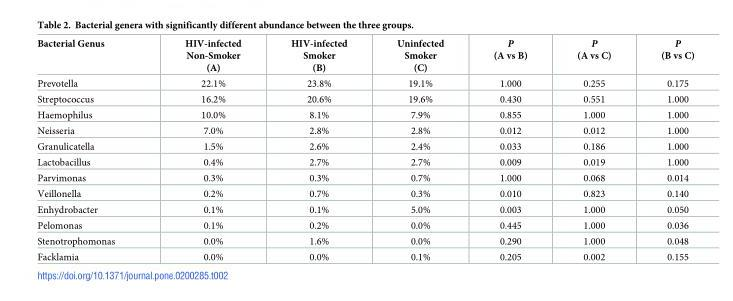table: (36, 36, 693, 261)
table column: (149, 36, 265, 261), (36, 36, 149, 261), (265, 36, 371, 261), (371, 36, 468, 261), (551, 36, 635, 261), (468, 36, 551, 261), (635, 36, 693, 261)
table column header: (36, 36, 693, 75)
table row: (36, 36, 693, 75), (36, 90, 693, 106), (36, 106, 693, 122), (36, 122, 693, 138), (36, 138, 693, 154), (36, 169, 693, 185), (36, 185, 693, 201), (36, 201, 693, 217), (36, 217, 693, 233), (36, 75, 693, 90), (36, 154, 693, 169), (36, 233, 693, 248), (36, 248, 693, 261)
